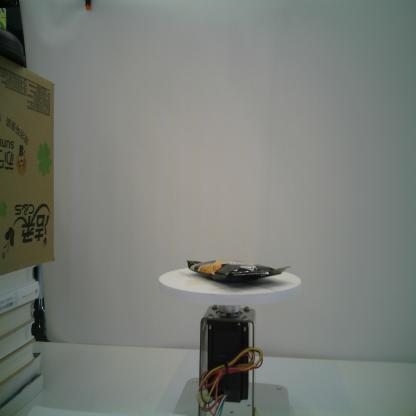Instant Drink: (186, 256, 290, 284)
